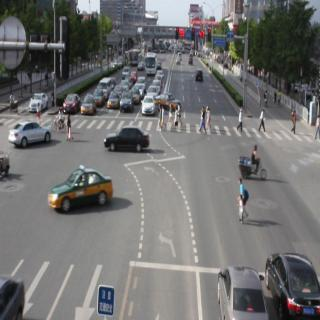BigCar: (145, 53, 159, 72)
Car: (262, 240, 320, 320), (50, 169, 117, 213), (221, 258, 268, 320), (7, 112, 56, 155), (104, 116, 151, 160), (0, 257, 28, 320), (156, 88, 182, 115), (23, 88, 45, 114), (80, 94, 99, 122), (141, 90, 156, 117), (99, 76, 115, 100), (64, 92, 79, 115), (122, 92, 136, 115), (108, 91, 122, 113), (120, 76, 131, 92), (138, 74, 148, 90), (194, 68, 206, 81), (131, 69, 138, 83), (122, 68, 131, 76)
